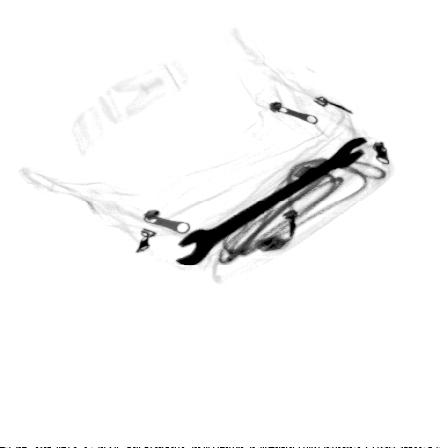Wrench: (174, 137, 369, 266)
